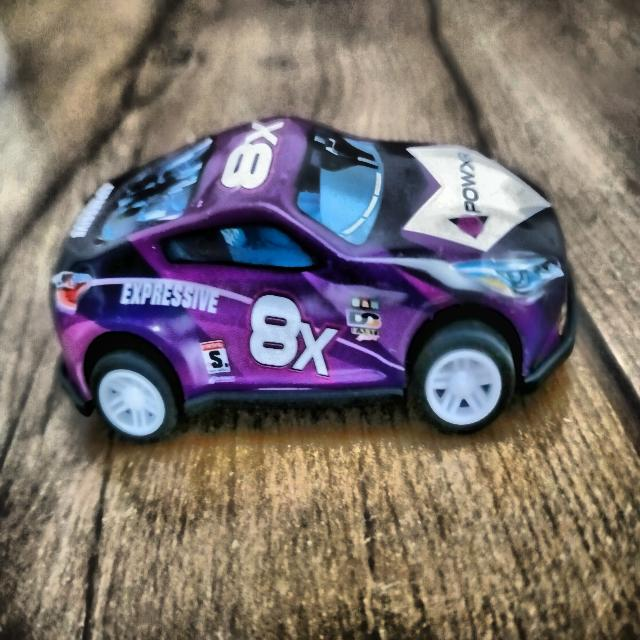Car: (52, 120, 580, 453)
